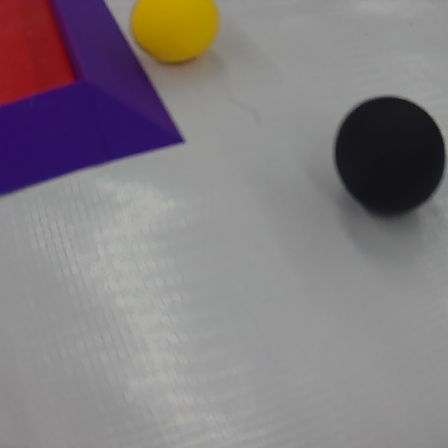black: (330, 91, 447, 219)
red_aim: (0, 0, 191, 199)
yellow: (125, 0, 218, 66)
